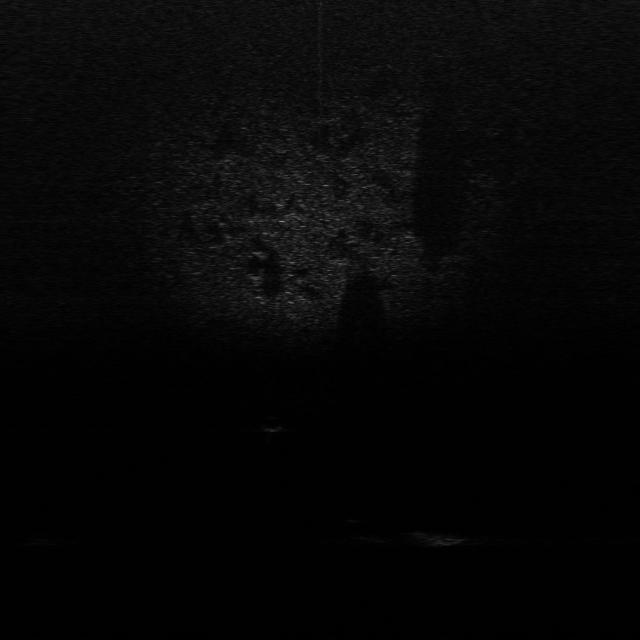ball: (259, 414, 283, 434)
metal bucket: (404, 528, 474, 550)
tyre: (328, 511, 374, 547)
